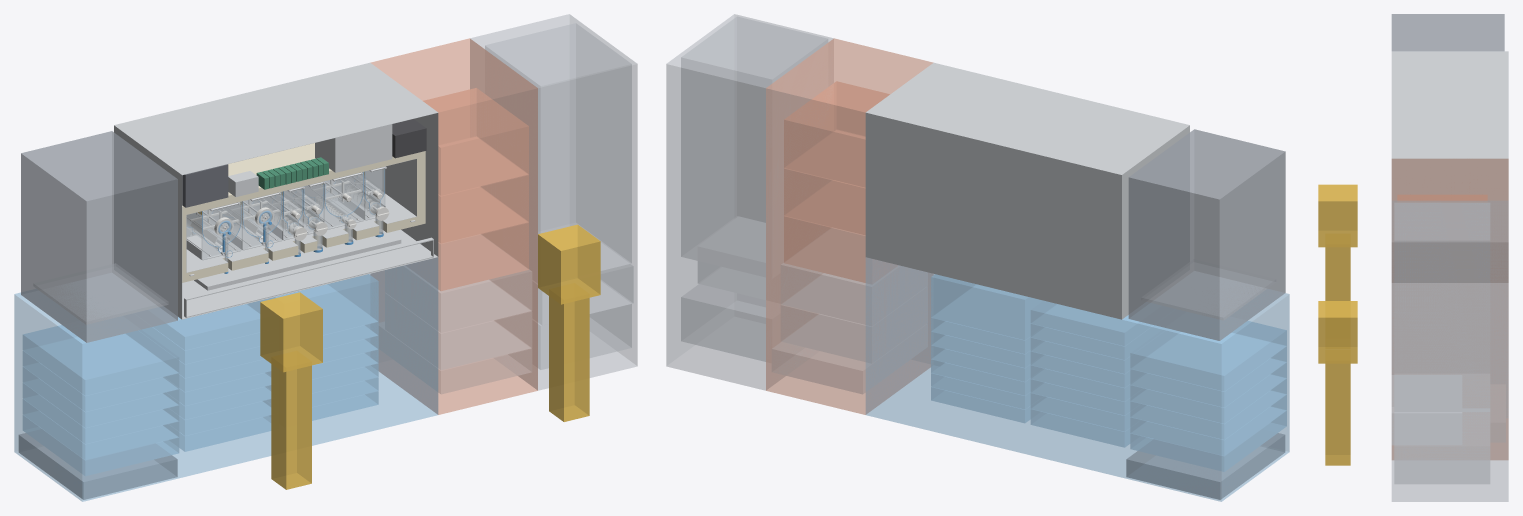
File: hat_v13.glb
3 views of the same model, side by side, from view 1: azimuth 30°, elevation 25°; view 2: azimuth 150°, elevation 25°; view 3: azimuth 270°, elevation 25° (orthographic). The views are drawn at different scales.
Visible parts, largest first — view 1: B_KABIN, TOPPING_MODUL__sac, D_KABIN, E_KABIN, PRESS, E_SARJOR, FIRIN_3, CEK_K1_hamur_6, TOPPING_MODUL__pu, B_SOGUTMA, ROBOT_2, ROBOT_1 (+40 smaller); view 2: B_KABIN, TOPPING_MODUL__sac, D_KABIN, E_KABIN, PRESS, E_SARJOR, FIRIN_3, CEK_K1_hamur_6, B_SOGUTMA, E_MEK, PRESS_PLAKA, CEK_K3_icecek_1 (+25 smaller); view 3: E_KABIN, TOPPING_MODUL__sac, E_SARJOR, D_KABIN, E_MEK, PRESS, ROBOT_2, ROBOT_1_KOL, ROBOT_2_KOL, E_AGZ, ROBOT_1, FIRIN_3.
Part boxes in pixels (x1,y1,x2,y2): B_KABIN: (14, 257, 438, 501); TOPPING_MODUL__sac: (114, 62, 438, 319); D_KABIN: (370, 38, 537, 414); E_KABIN: (470, 14, 637, 390); PRESS: (21, 131, 177, 342); E_SARJOR: (485, 23, 631, 270); FIRIN_3: (423, 88, 528, 195); CEK_K1_hamur_6: (23, 325, 178, 395); TOPPING_MODUL__pu: (182, 143, 425, 282); B_SOGUTMA: (18, 429, 177, 499); ROBOT_2: (549, 283, 589, 421); ROBOT_1: (271, 351, 311, 489); B_KABIN: (865, 257, 1289, 501); TOPPING_MODUL__sac: (865, 62, 1189, 319); D_KABIN: (766, 38, 933, 414); E_KABIN: (666, 14, 833, 390); PRESS: (1128, 129, 1285, 340); E_SARJOR: (681, 16, 827, 277); FIRIN_3: (784, 81, 889, 187); CEK_K1_hamur_6: (1130, 321, 1286, 391); B_SOGUTMA: (1126, 429, 1285, 499); E_MEK: (681, 284, 765, 361); PRESS_PLAKA: (1141, 259, 1275, 320); CEK_K3_icecek_1: (931, 274, 1042, 339); E_KABIN: (1391, 200, 1508, 501); TOPPING_MODUL__sac: (1391, 51, 1508, 282); E_SARJOR: (1394, 203, 1489, 411); D_KABIN: (1392, 158, 1508, 459); E_MEK: (1394, 412, 1489, 483); PRESS: (1391, 14, 1504, 51); ROBOT_2: (1325, 363, 1350, 465); ROBOT_1_KOL: (1318, 184, 1357, 247); ROBOT_2_KOL: (1318, 301, 1357, 363); E_AGZ: (1392, 375, 1461, 444); ROBOT_1: (1325, 234, 1350, 300); FIRIN_3: (1397, 195, 1487, 200).
Bounding box in the file's own units: 3.9 × 2.03 × 1.35.
90 materials, 12 textured.
